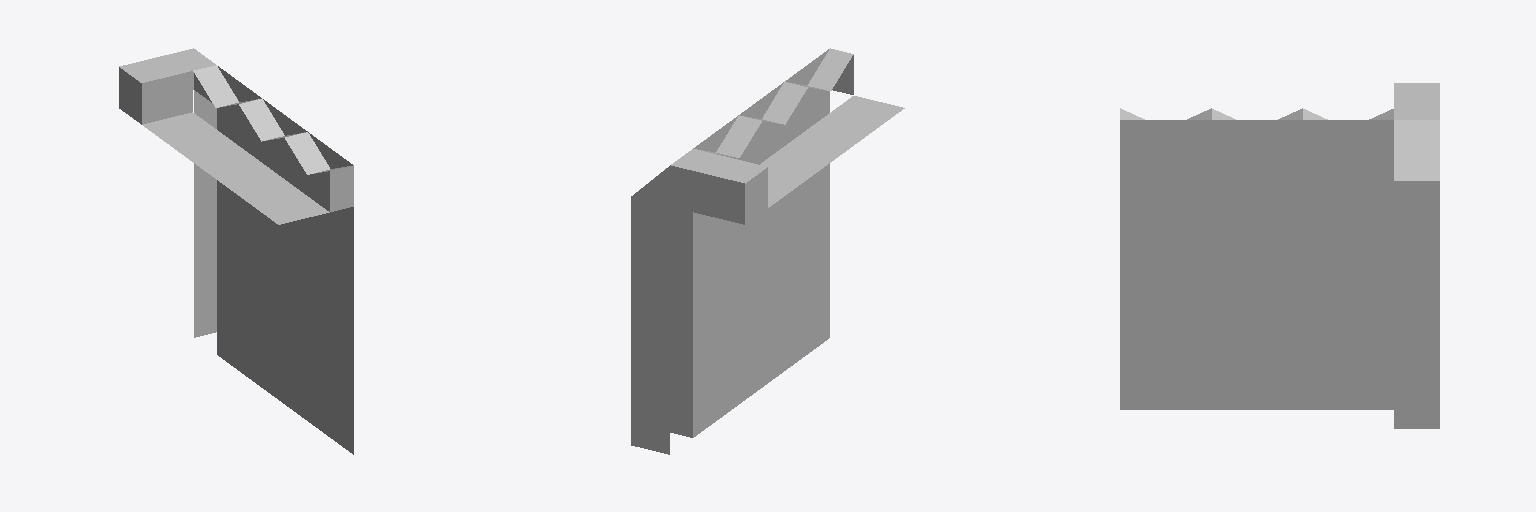
Rendered from fence.obj.
3 views of the same model, side by side, from view 1: azimuth 30°, elevation 25°; view 2: azimuth 150°, elevation 25°; view 3: azimuth 270°, elevation 25° (orthographic).
Parts seen in each view (by area): view 1: Cube; view 2: Cube; view 3: Cube.
Part boxes in pixels (x1,y1,x2,y2): Cube: (119, 48, 353, 454); Cube: (631, 48, 904, 454); Cube: (1120, 83, 1439, 428).
Bounding box in the file's own units: 2.9 × 7 × 7.